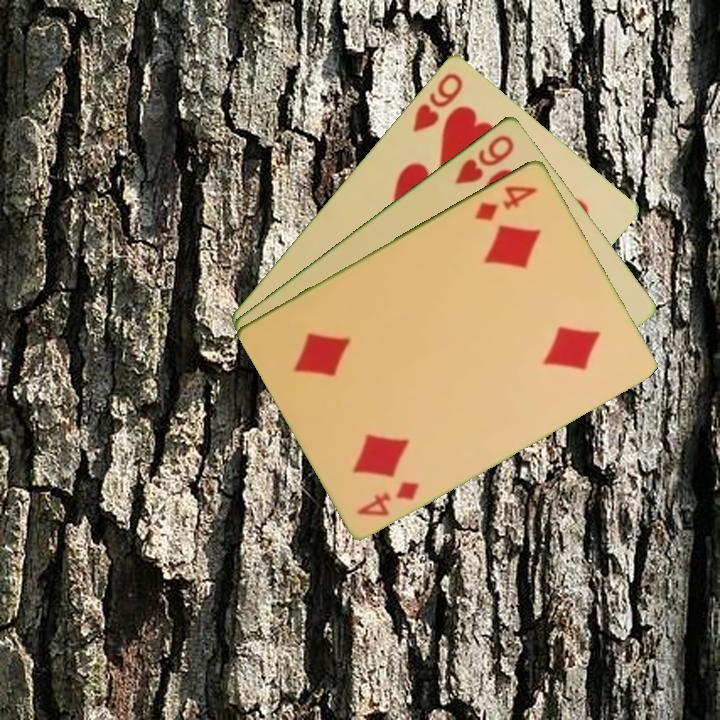4d: (471, 181, 541, 224), (352, 477, 423, 519)
9h: (408, 68, 466, 135), (450, 131, 517, 187)
